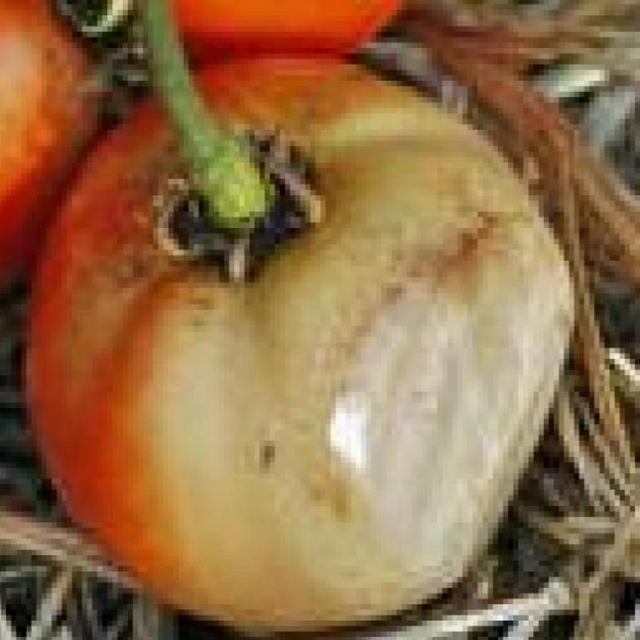Sunscald Fruit: (90, 66, 375, 409)
